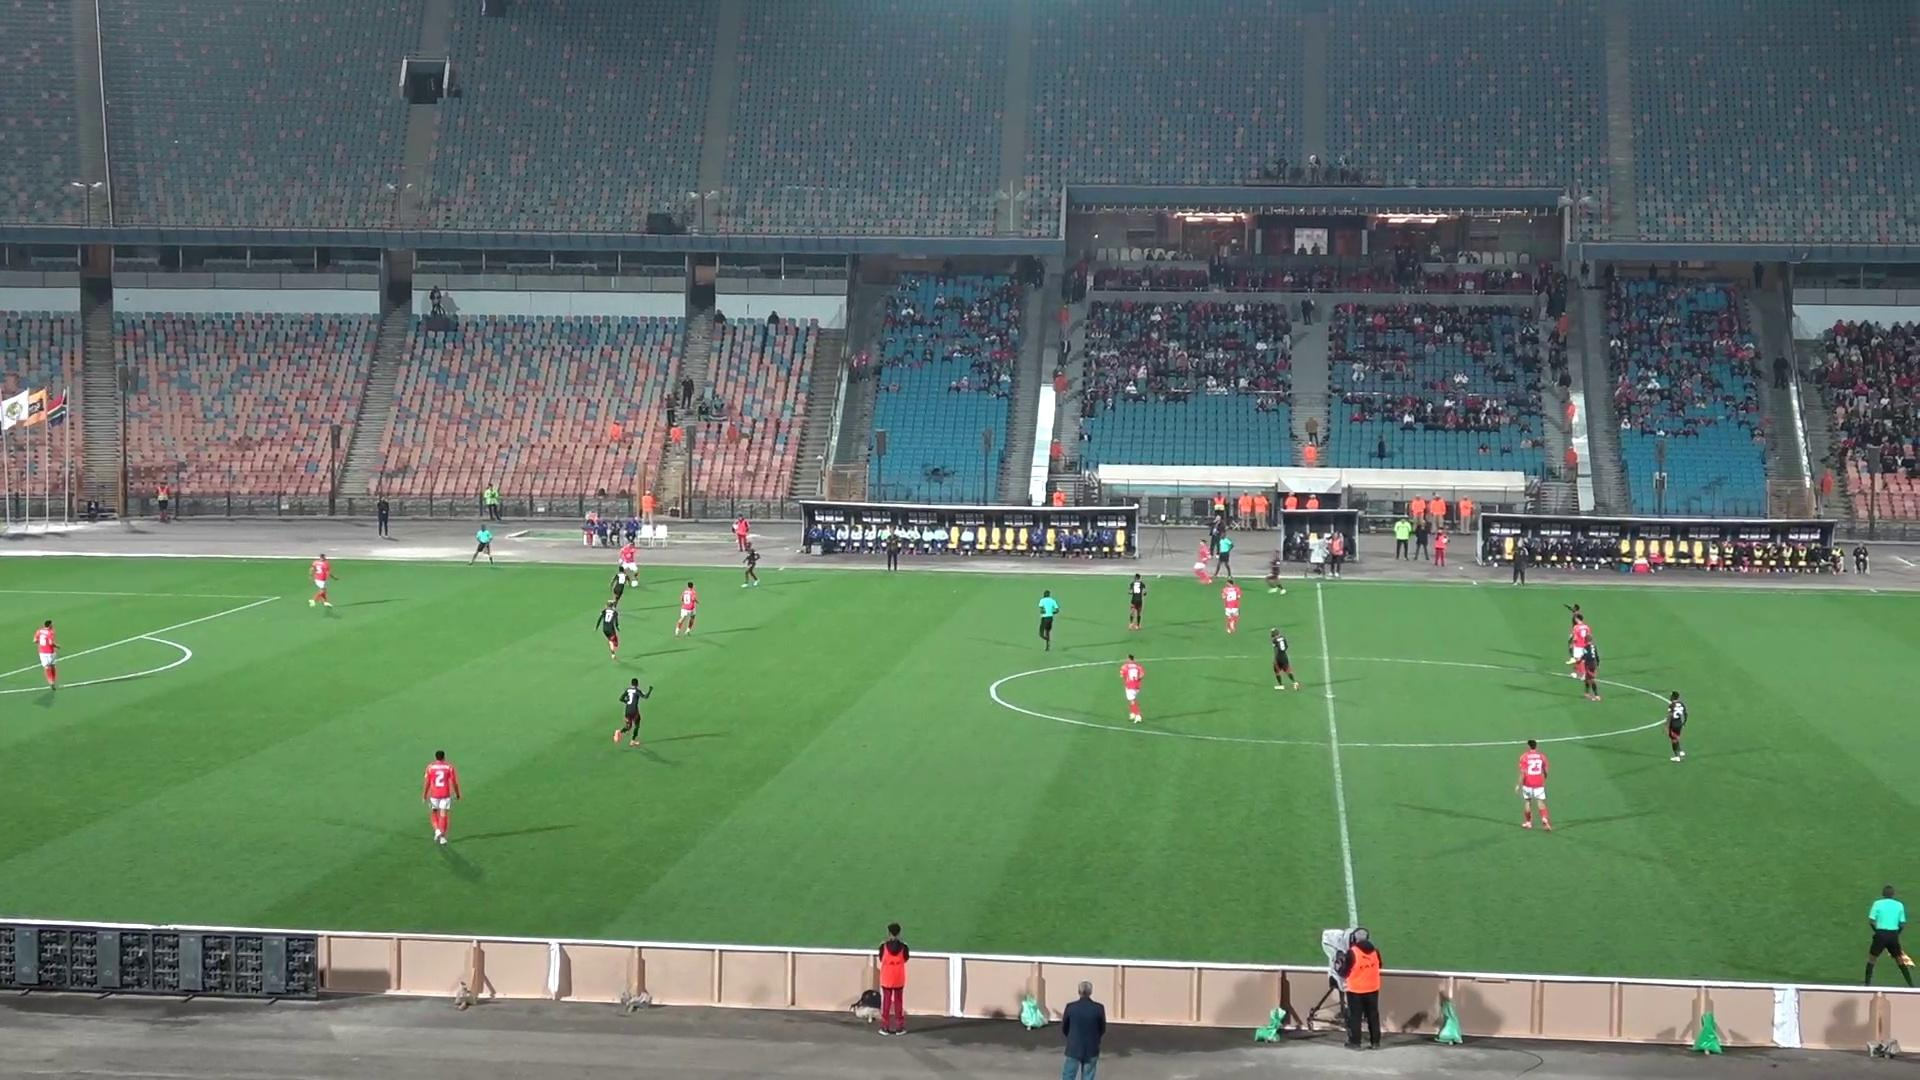Refree: (1036, 589, 1060, 651), (467, 522, 496, 563), (1212, 531, 1233, 576)
Team1: (421, 750, 463, 845), (1516, 740, 1549, 829), (1564, 611, 1600, 676), (33, 618, 61, 688), (1120, 654, 1146, 723), (1218, 578, 1244, 633), (309, 554, 334, 607), (674, 582, 698, 636), (1193, 541, 1218, 584), (615, 541, 638, 585)
Team2: (611, 678, 651, 746), (1567, 640, 1600, 700), (1269, 628, 1300, 688), (593, 599, 620, 659), (1127, 574, 1149, 630), (1265, 554, 1286, 595), (742, 546, 761, 585)
